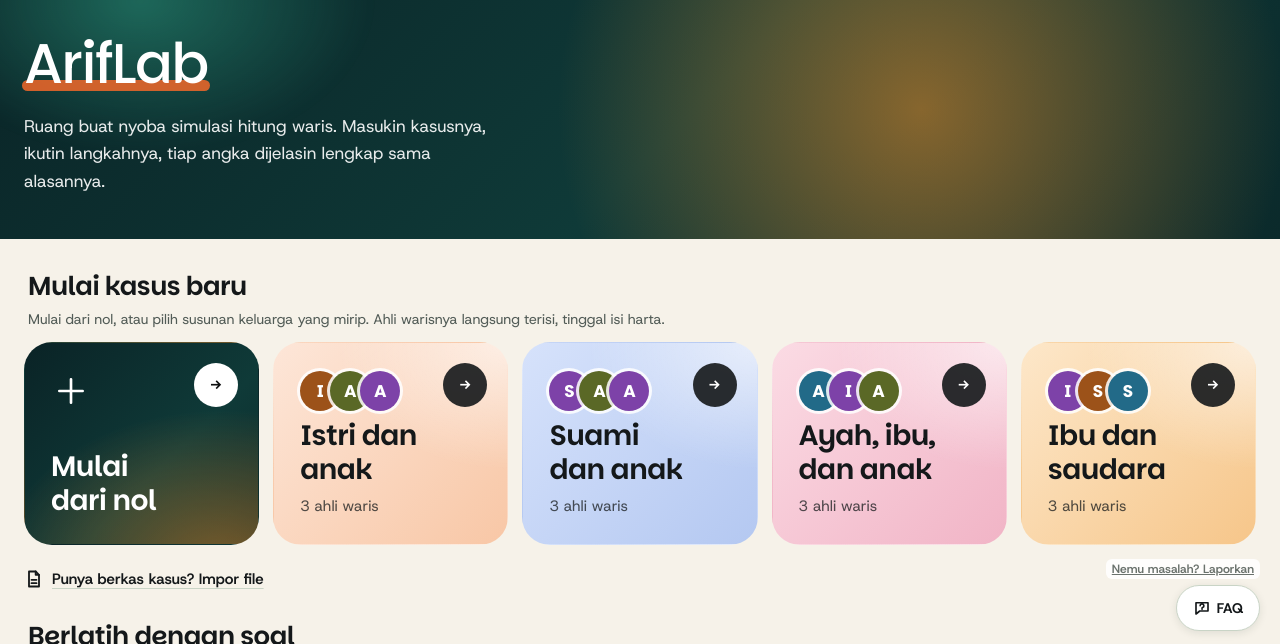
it: temuan review akhir › skenario baru memberi tahu kasus berjalan tetap di riwayat, lalu langsung ke wizard
Step 1. Click the button "→ Mulai dari nol" → {"x": 142, "y": 443}, box left=24, top=342, right=259, bottom=545
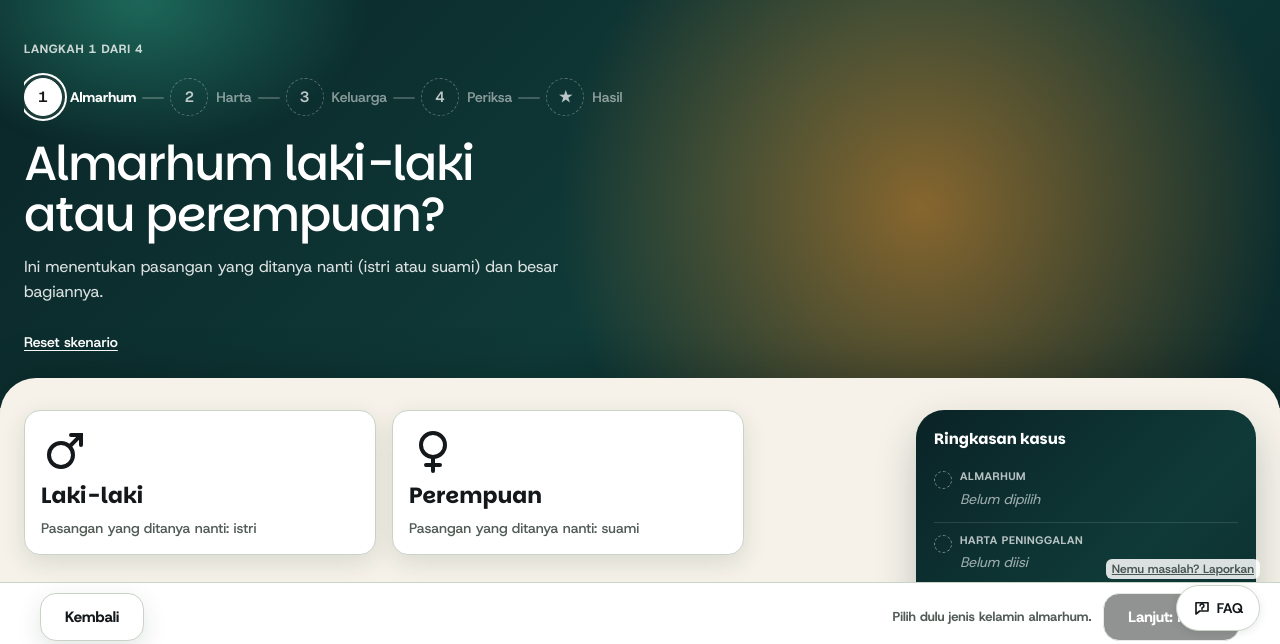
Step 2. Click the radio button labelled "Laki-laki Pasangan yang ditanya nanti: istri" → {"x": 65, "y": 451}, box left=24, top=410, right=376, bottom=555
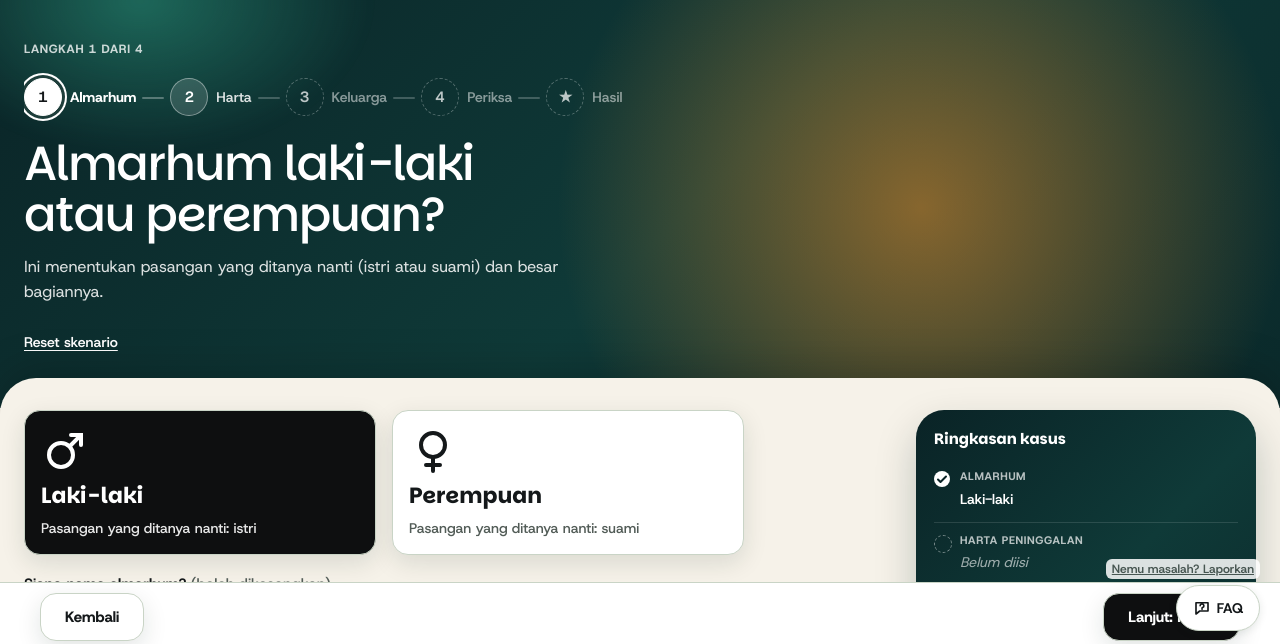
Step 3. Click the button "Kembali" → {"x": 92, "y": 617}, box left=40, top=593, right=144, bottom=641
(page scrolled)
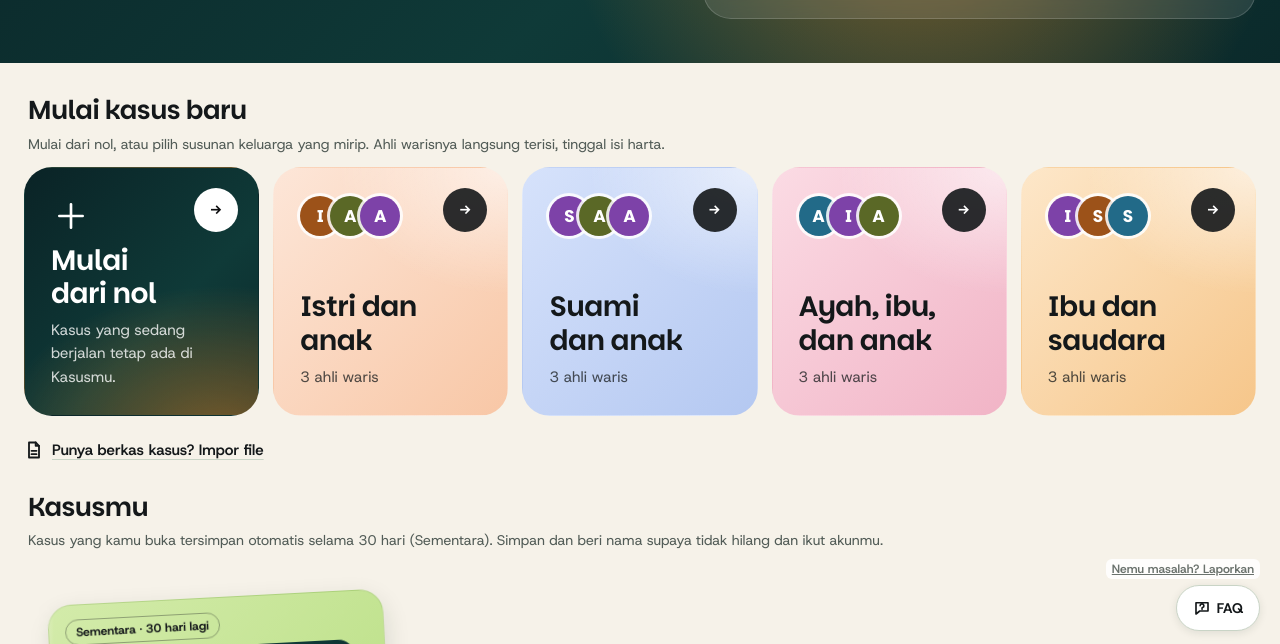
Expected: the button "Mulai dari nol" shows "tetap ada di Kasusmu"
Step 4. Click the button "Mulai dari nol" → {"x": 142, "y": 291}, box left=24, top=167, right=259, bottom=416
(page scrolled)
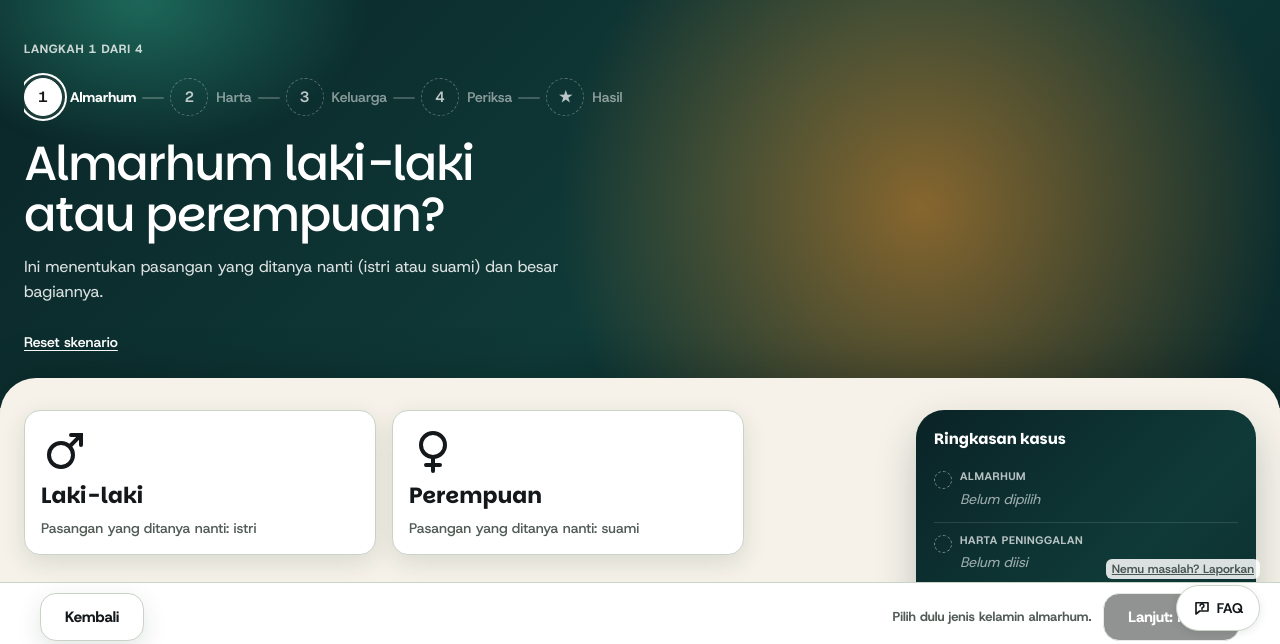
Expected: the heading "Almarhum laki-laki atau perempuan?" is shown, left=24, top=130, right=473, bottom=248
